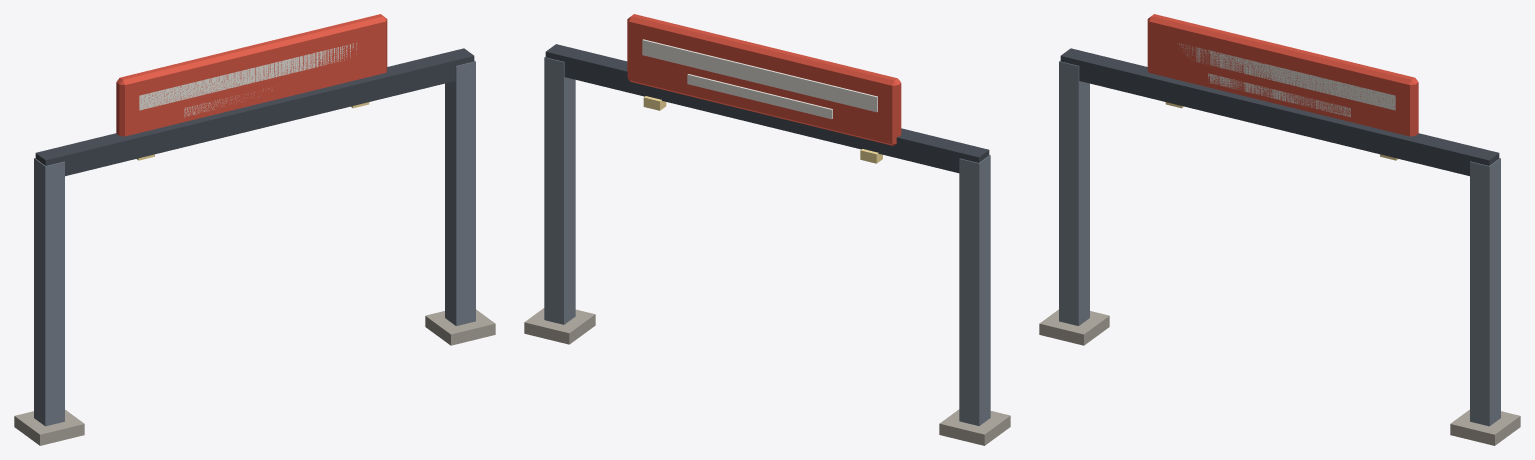
The model's file is border_gantry.glb.
3 views of the same model, side by side, from view 1: azimuth 30°, elevation 25°; view 2: azimuth 150°, elevation 25°; view 3: azimuth 330°, elevation 25° (orthographic).
Parts seen in each view (by area): view 1: border_gantry; view 2: border_gantry; view 3: border_gantry.
Boxes of the visible parts, box(x1,y1,x2,y2) form: border_gantry: box(14, 14, 495, 445); border_gantry: box(524, 14, 1010, 445); border_gantry: box(1039, 14, 1520, 445).
Size of the model in its own units: 5.1 by 3.55 by 0.5.
1 material, 1 textured.
